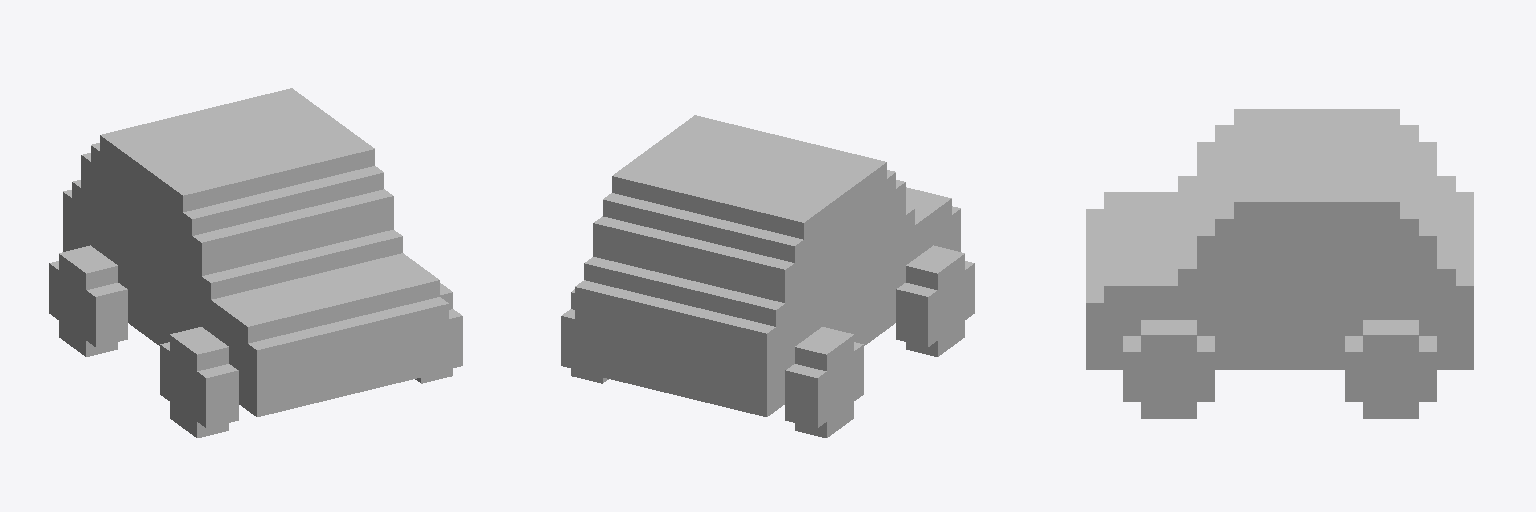
The model's file is car1.obj.
The picture shows the model from 3 angles: view 1: azimuth 30°, elevation 25°; view 2: azimuth 150°, elevation 25°; view 3: azimuth 270°, elevation 25°; orthographic projection.
Visible parts, largest first — view 1: car1; view 2: car1; view 3: car1.
Boxes of the visible parts, x1,y1,x2,y2 form: car1: [49, 88, 462, 437]; car1: [561, 115, 974, 437]; car1: [1086, 109, 1473, 418].
Bounding box in the file's own units: 16 × 12 × 21.